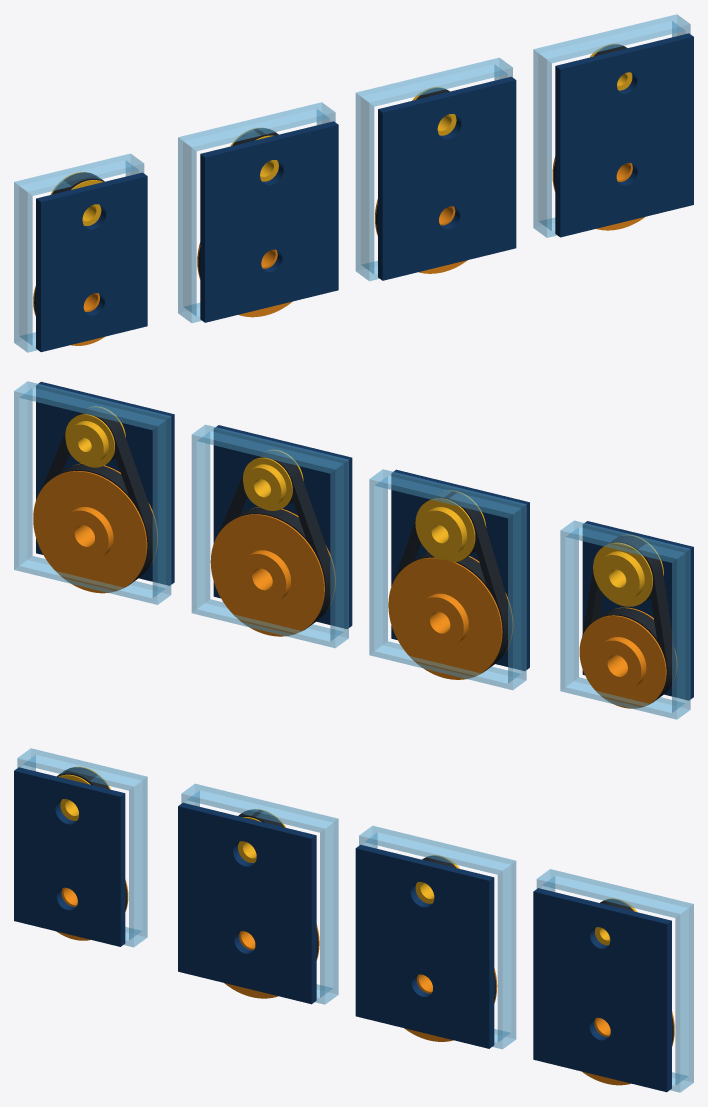
Rendered from HR-30_leg_drivetrain_lineup_candidate.glb.
The picture shows the model from 3 angles, top to bottom: view 1: azimuth 30°, elevation 25°; view 2: azimuth 150°, elevation 25°; view 3: azimuth 330°, elevation 25°; orthographic projection.
Parts seen in each view (by area): view 1: SLOTTED_CARRIER_PLATE (×4), REMOVABLE_GUARD_ENVELOPE (×4), MISUMI_OUTPUT_PULLEY_ENVELOPE (×3); view 2: REMOVABLE_GUARD_ENVELOPE (×4), MISUMI_OUTPUT_PULLEY_ENVELOPE (×4), SLOTTED_CARRIER_PLATE (×4), MISUMI_EV5GT_BELT_ROUTING_ENVELOPE (×4), MISUMI_MOTOR_PULLEY_ENVELOPE (×4); view 3: SLOTTED_CARRIER_PLATE (×4), REMOVABLE_GUARD_ENVELOPE (×4), MISUMI_OUTPUT_PULLEY_ENVELOPE (×3).
Boxes of the visible parts, left/top/right/bottom form: SLOTTED_CARRIER_PLATE (×4): left=36, top=33, right=693, bottom=352; REMOVABLE_GUARD_ENVELOPE (×4): left=14, top=14, right=690, bottom=352; MISUMI_OUTPUT_PULLEY_ENVELOPE (×3): left=197, top=156, right=644, bottom=317; REMOVABLE_GUARD_ENVELOPE (×4): left=14, top=381, right=690, bottom=719; MISUMI_OUTPUT_PULLEY_ENVELOPE (×4): left=33, top=463, right=676, bottom=708; SLOTTED_CARRIER_PLATE (×4): left=36, top=381, right=693, bottom=700; MISUMI_EV5GT_BELT_ROUTING_ENVELOPE (×4): left=41, top=407, right=675, bottom=704; MISUMI_MOTOR_PULLEY_ENVELOPE (×4): left=65, top=406, right=663, bottom=606; SLOTTED_CARRIER_PLATE (×4): left=14, top=767, right=671, bottom=1092; REMOVABLE_GUARD_ENVELOPE (×4): left=17, top=748, right=693, bottom=1092; MISUMI_OUTPUT_PULLEY_ENVELOPE (×3): left=224, top=924, right=674, bottom=1085.
Bounding box in the file's own units: 392 × 105 × 23.5.
